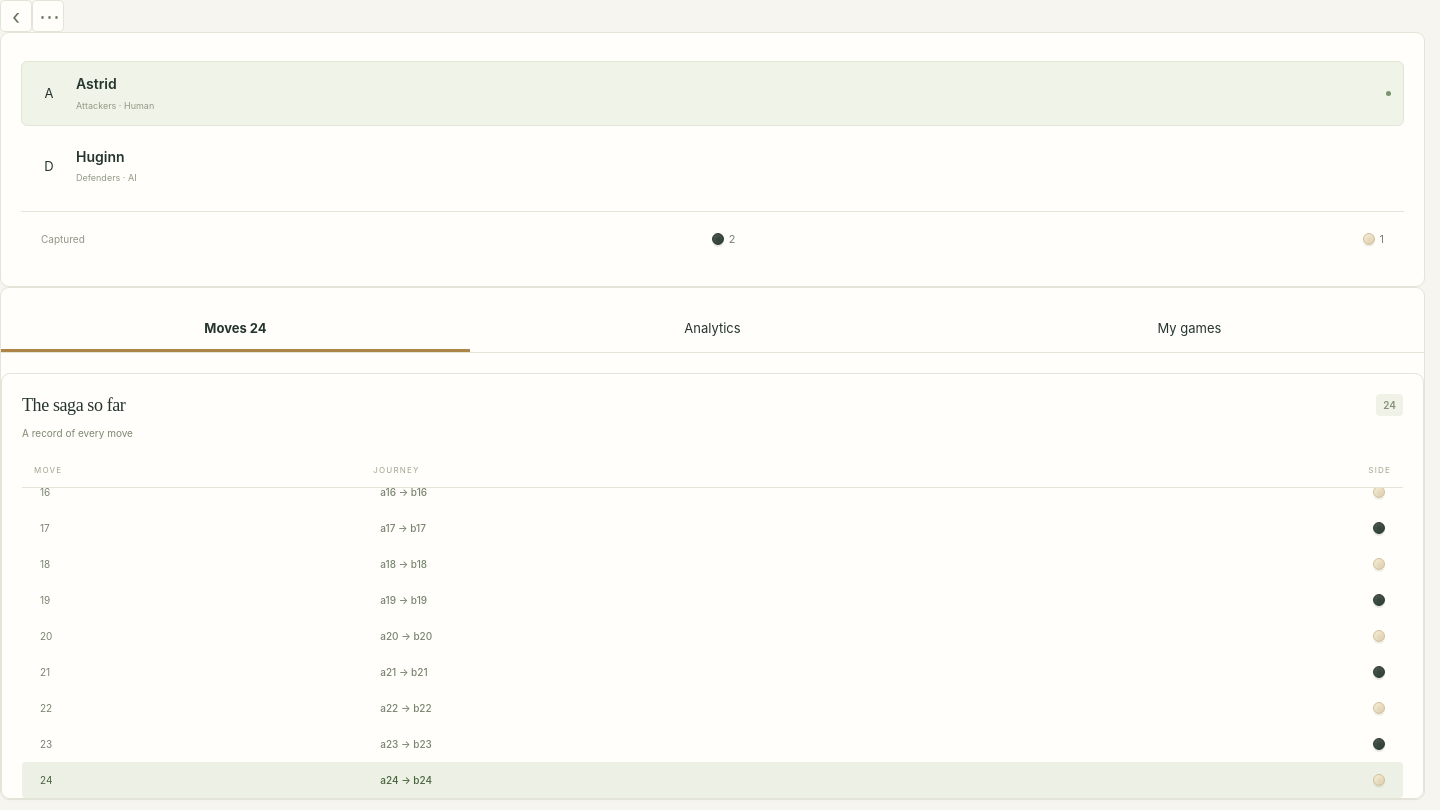
Test case: keeps only advisor setup in options and returns focus after closing
(page scrolled)
Step 1. Click the tab "Analytics" → (712, 330), box 478,308 -> 947,352
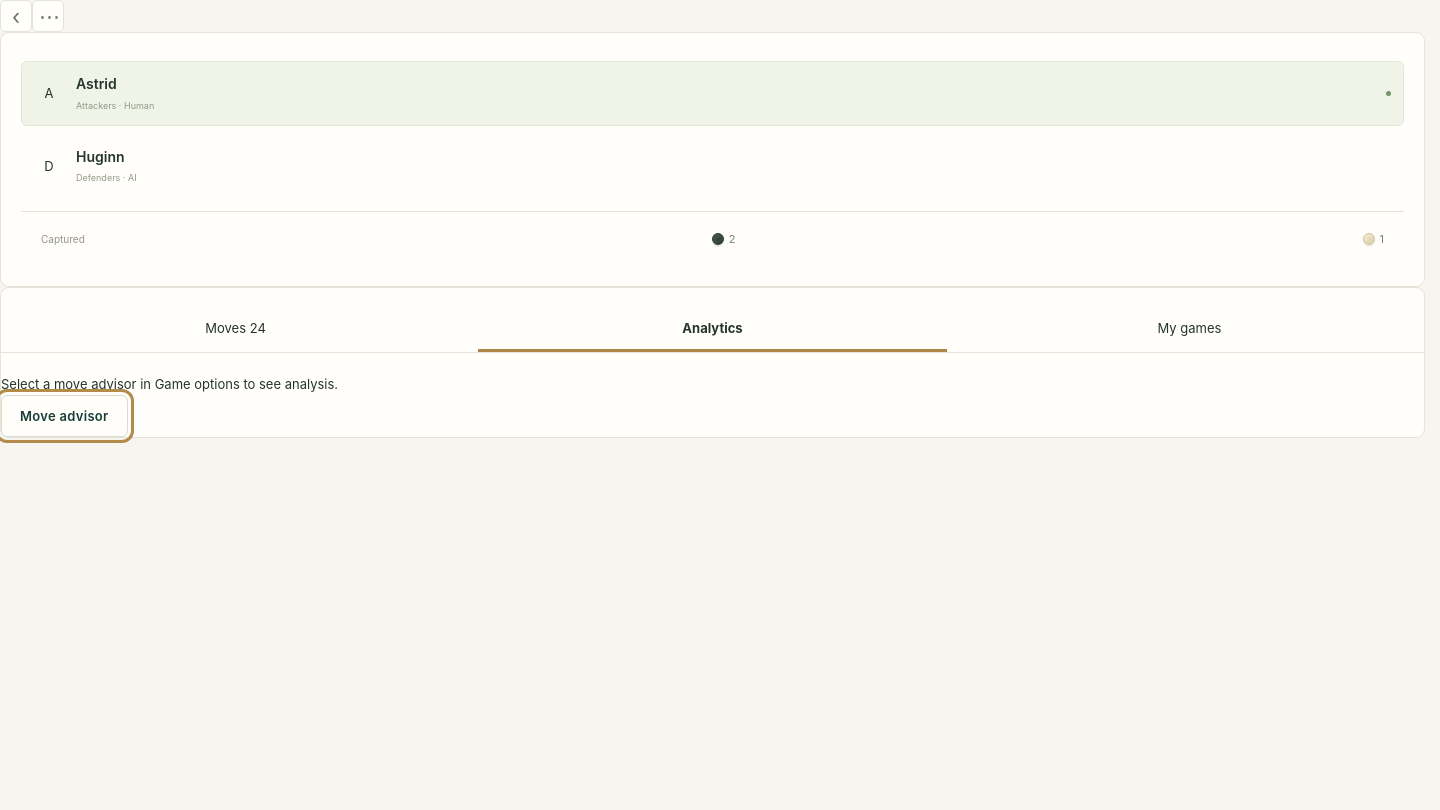
Step 2. Click the button "Move advisor" → (64, 416), box 1,395 -> 128,437
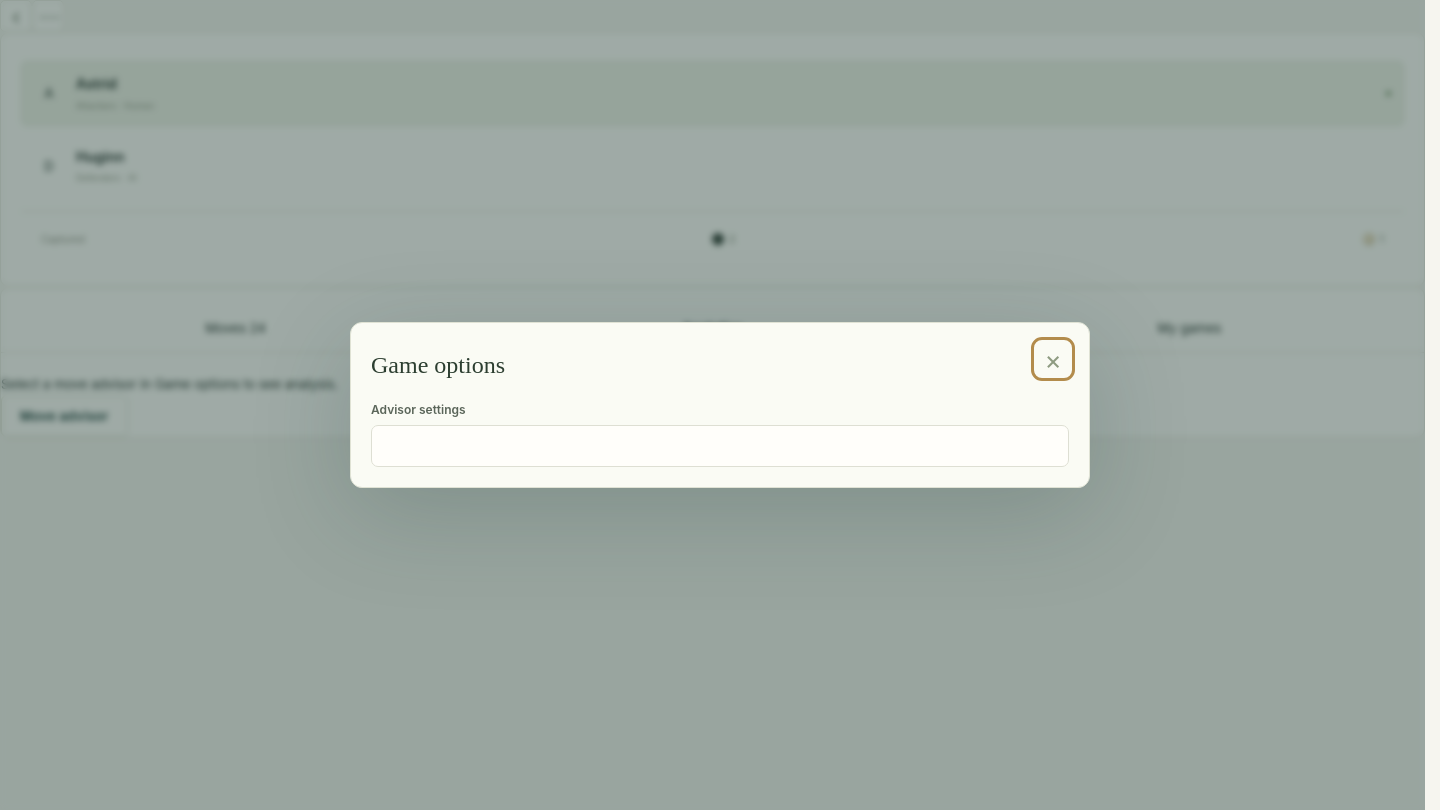
Now the field labelled "Advisor settings" is shown, box 371,425 -> 1069,467
Step 3. Click the button named "Close dialog" → (1053, 359), box 1037,343 -> 1069,375
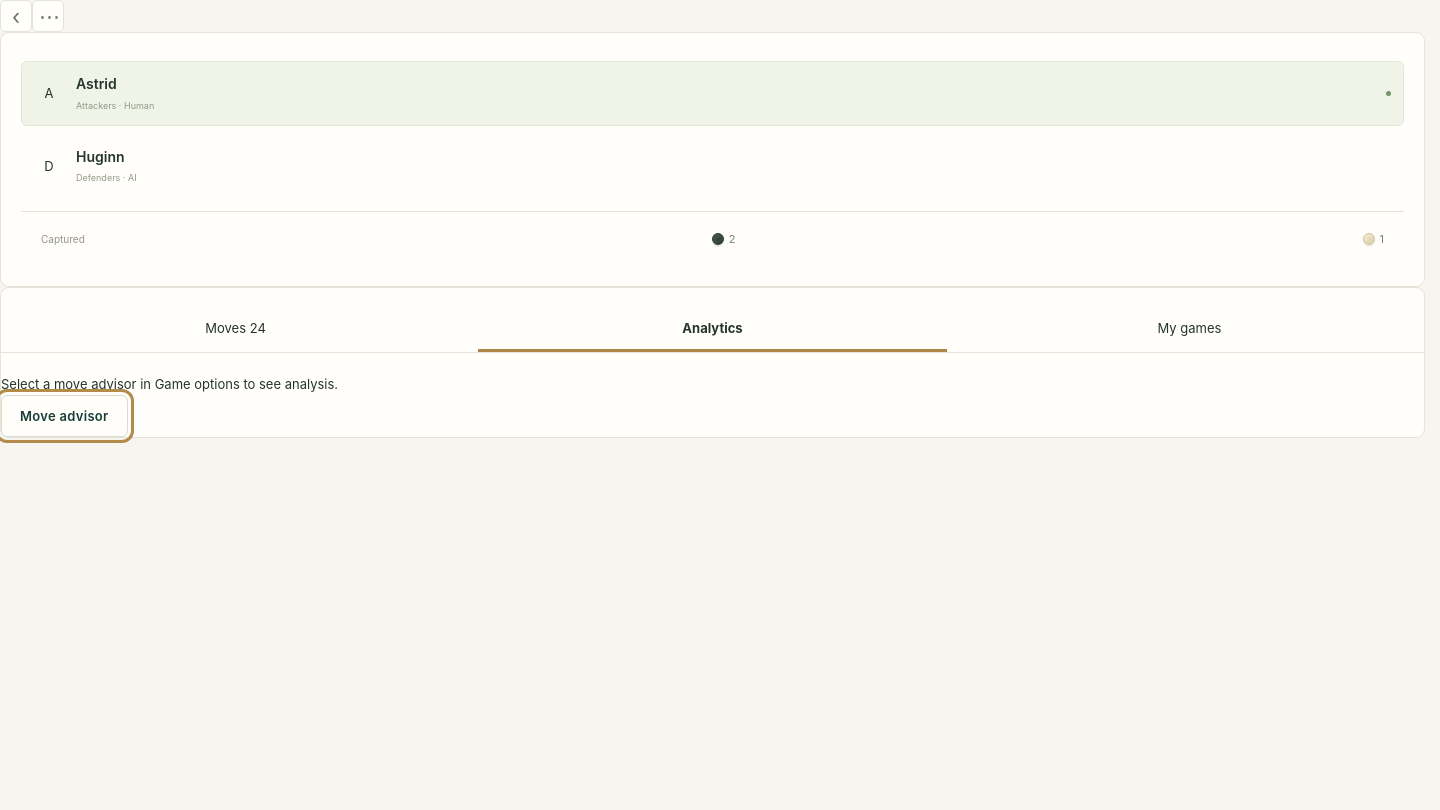
Now the dialog is gone
